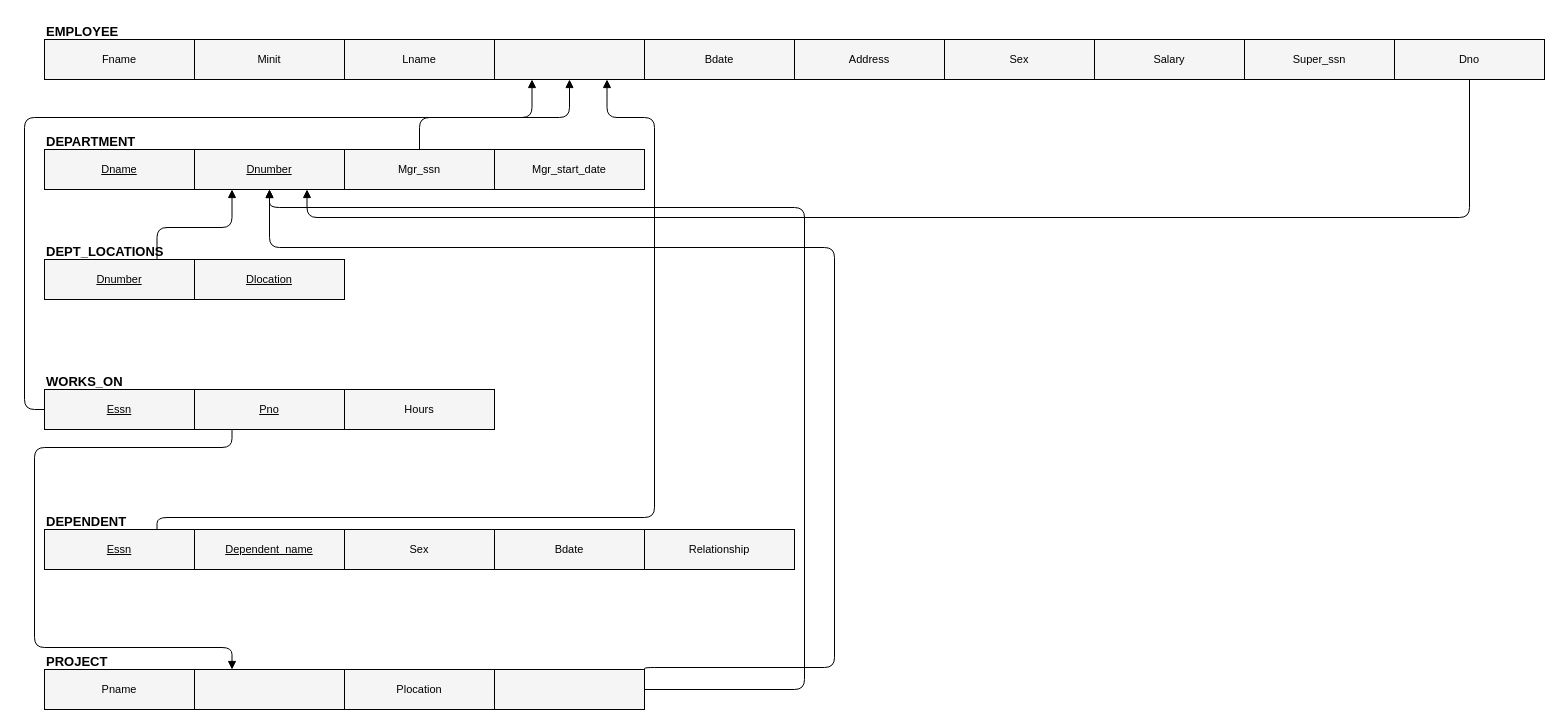
Image size: 1562x727. Some labels were removed from this diagram. The shapes that lost their labels are listed below. From the top down, each one's centre as x and y in pixels, then its label:
the point at 569,59: Ssn
the point at 269,689: Pnumber
the point at 569,689: Dnum
